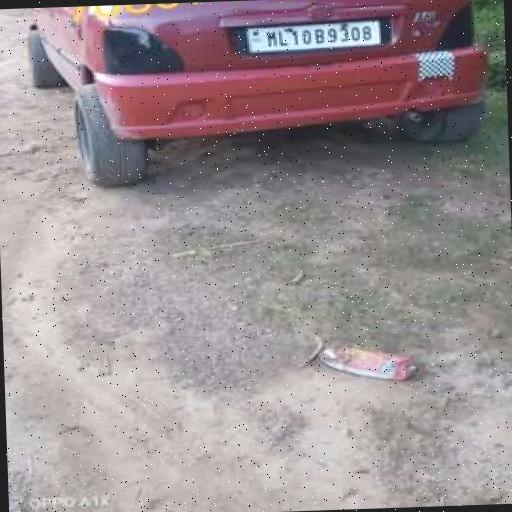license_plate`: (244, 18, 377, 50)
